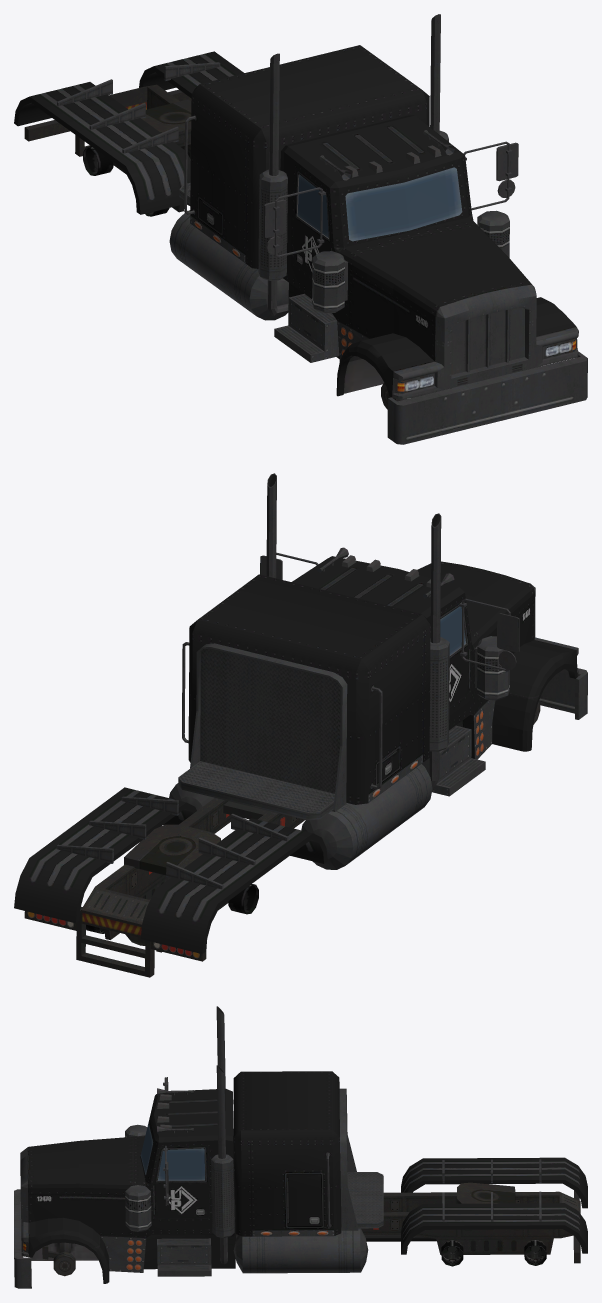
Rendered from Ogre_Semi2.obj.
3 renders of one model, top to bottom at view 1: azimuth 30°, elevation 25°; view 2: azimuth 150°, elevation 25°; view 3: azimuth 270°, elevation 25°, orthographic. The views are drawn at different scales.
Parts seen in each view (by area): view 1: DrawCall_0794, DrawCall_0798, DrawCall_0803, DrawCall_0807, DrawCall_0804, DrawCall_0800, DrawCall_1057, DrawCall_0796, DrawCall_0802, DrawCall_0806, DrawCall_0795, DrawCall_0805 (+6 smaller); view 2: DrawCall_0794, DrawCall_0798, DrawCall_0796, DrawCall_0807, DrawCall_0802, DrawCall_0795, DrawCall_0800, DrawCall_0806, DrawCall_0804, DrawCall_0793, DrawCall_0801, DrawCall_1059 (+1 smaller); view 3: DrawCall_0794, DrawCall_0798, DrawCall_0807, DrawCall_0797, DrawCall_0799, DrawCall_0795, DrawCall_0801, DrawCall_0805, DrawCall_1058, DrawCall_0793, DrawCall_0804, DrawCall_0808 (+4 smaller).
Boxes of the visible parts, left/top/right/bottom form: DrawCall_0794: left=24, top=45, right=509, bottom=362; DrawCall_0798: left=14, top=51, right=244, bottom=214; DrawCall_0803: left=392, top=284, right=578, bottom=399; DrawCall_0807: left=348, top=224, right=533, bottom=324; DrawCall_0804: left=387, top=352, right=587, bottom=444; DrawCall_0800: left=345, top=272, right=435, bottom=397; DrawCall_1057: left=345, top=167, right=462, bottom=241; DrawCall_0796: left=169, top=210, right=288, bottom=320; DrawCall_0802: left=258, top=53, right=288, bottom=315; DrawCall_0806: left=263, top=169, right=331, bottom=277; DrawCall_0795: left=288, top=212, right=477, bottom=396; DrawCall_0805: left=463, top=141, right=518, bottom=210; DrawCall_0794: left=24, top=556, right=509, bottom=977; DrawCall_0798: left=14, top=787, right=327, bottom=953; DrawCall_0796: left=301, top=764, right=432, bottom=869; DrawCall_0807: left=417, top=561, right=534, bottom=640; DrawCall_0802: left=429, top=513, right=449, bottom=787; DrawCall_0795: left=456, top=632, right=541, bottom=759; DrawCall_0800: left=479, top=602, right=577, bottom=708; DrawCall_0806: left=440, top=598, right=519, bottom=707; DrawCall_0804: left=539, top=668, right=587, bottom=719; DrawCall_0793: left=182, top=547, right=540, bottom=788; DrawCall_0801: left=266, top=473, right=276, bottom=578; DrawCall_1059: left=440, top=606, right=465, bottom=655; DrawCall_0794: left=125, top=1071, right=580, bottom=1276; DrawCall_0798: left=401, top=1157, right=587, bottom=1254; DrawCall_0807: left=28, top=1137, right=132, bottom=1195; DrawCall_0797: left=233, top=1227, right=368, bottom=1273; DrawCall_0799: left=28, top=1194, right=133, bottom=1257; DrawCall_0795: left=87, top=1136, right=235, bottom=1283; DrawCall_0801: left=211, top=1065, right=234, bottom=1264; DrawCall_0805: left=153, top=1145, right=209, bottom=1218; DrawCall_1058: left=157, top=1148, right=204, bottom=1180; DrawCall_0793: left=42, top=1088, right=330, bottom=1276; DrawCall_0804: left=14, top=1189, right=31, bottom=1288; DrawCall_0808: left=441, top=1240, right=546, bottom=1266.
Size of the model in its own units: 3.64 by 3.97 by 9.51.
6 materials, 5 textured.
